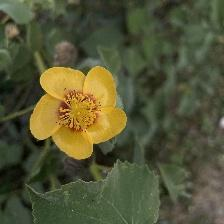indian mallow: (28, 64, 130, 163)
